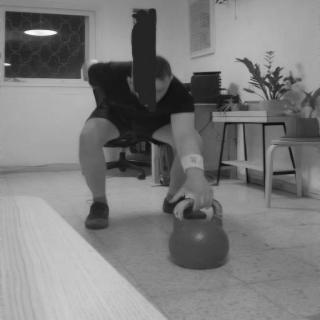kettlebell: (166, 184, 237, 277)
